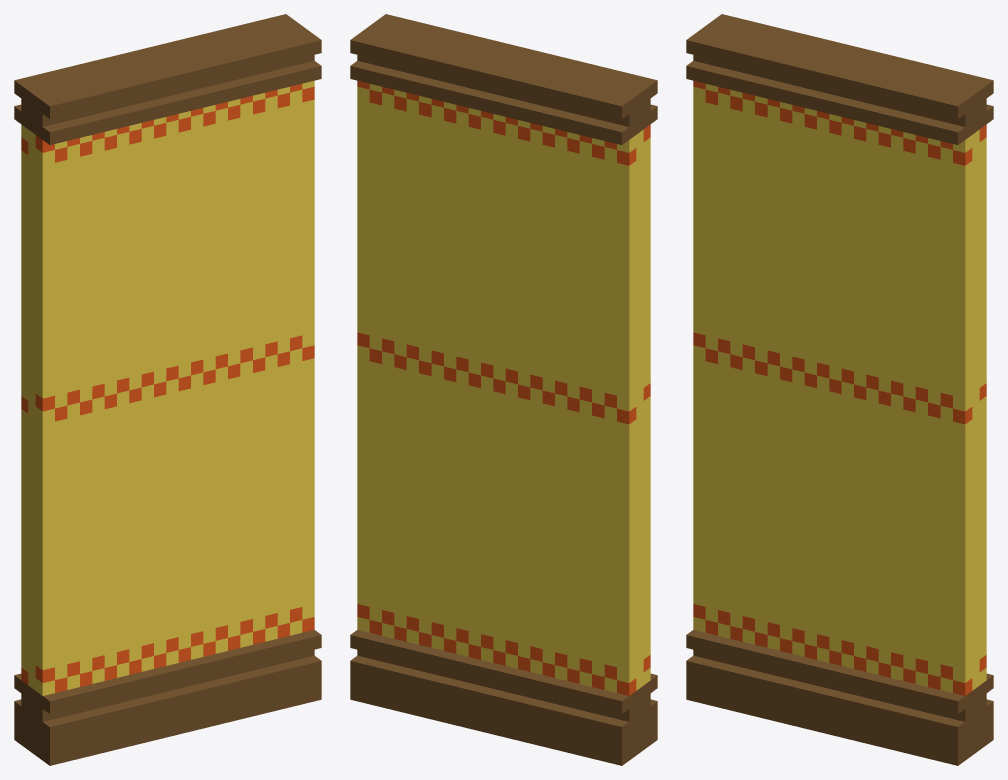
Rendered from wallpaper_wall_one.obj.
The picture shows the model from 3 angles, left to right: view 1: azimuth 30°, elevation 25°; view 2: azimuth 150°, elevation 25°; view 3: azimuth 330°, elevation 25°; orthographic projection.
Bounding box in the file's own units: 2.2 × 5.1 × 0.5.
1 material, 1 textured.
